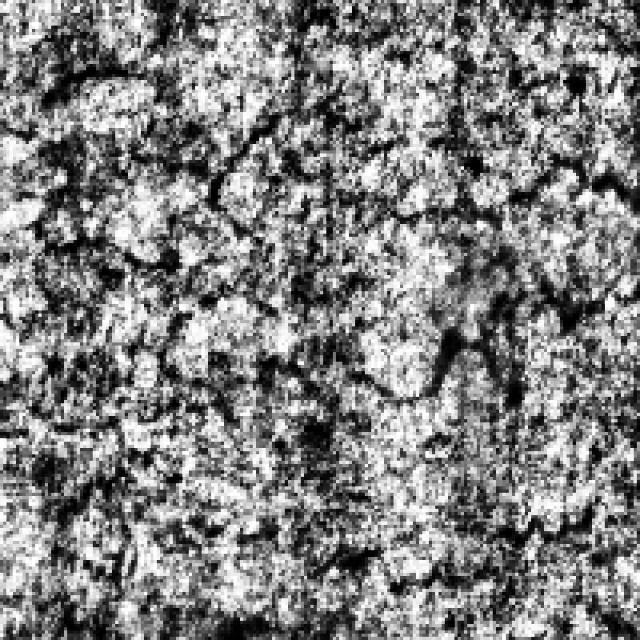Pitted_Surface: (3, 0, 333, 250), (356, 144, 634, 438), (32, 464, 403, 634)
